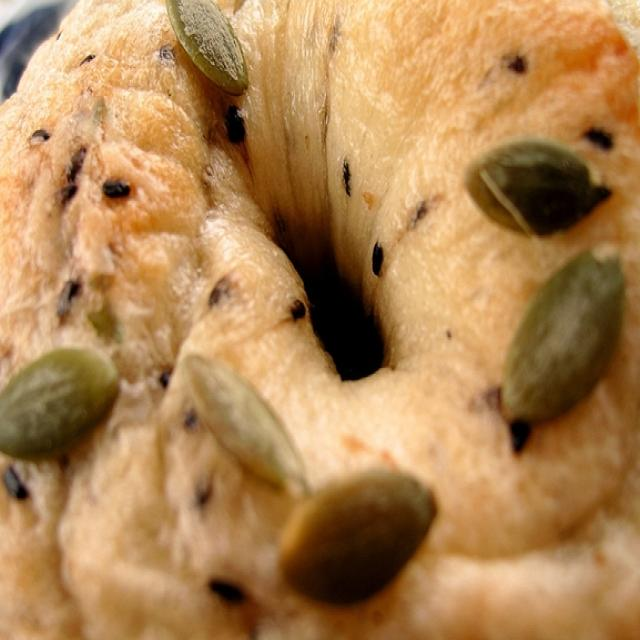面包点心: (1, 7, 628, 634)
